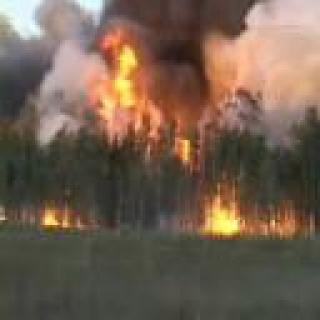fire: (93, 13, 175, 147), (204, 175, 307, 239), (35, 194, 92, 227)
